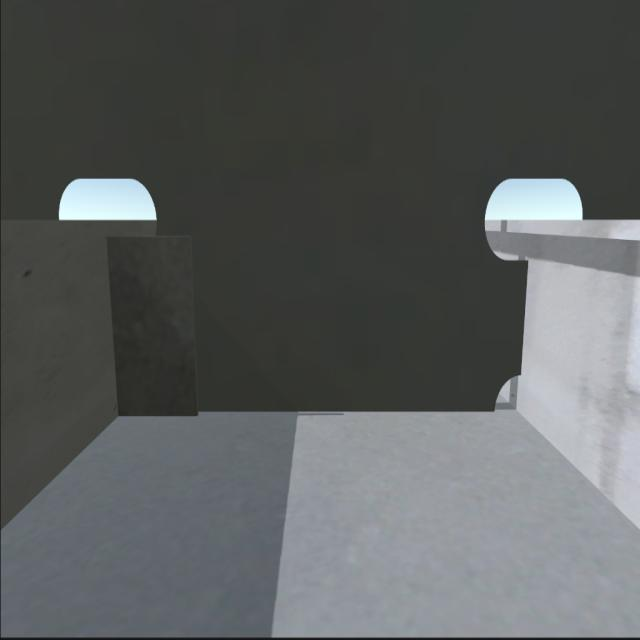fillet_hole: (486, 362, 526, 418)
fillet_yong_jeop_jang: (116, 401, 498, 424)
longi_yong_jeop_jang: (101, 239, 127, 416)
plate_CP01: (100, 229, 202, 417)
